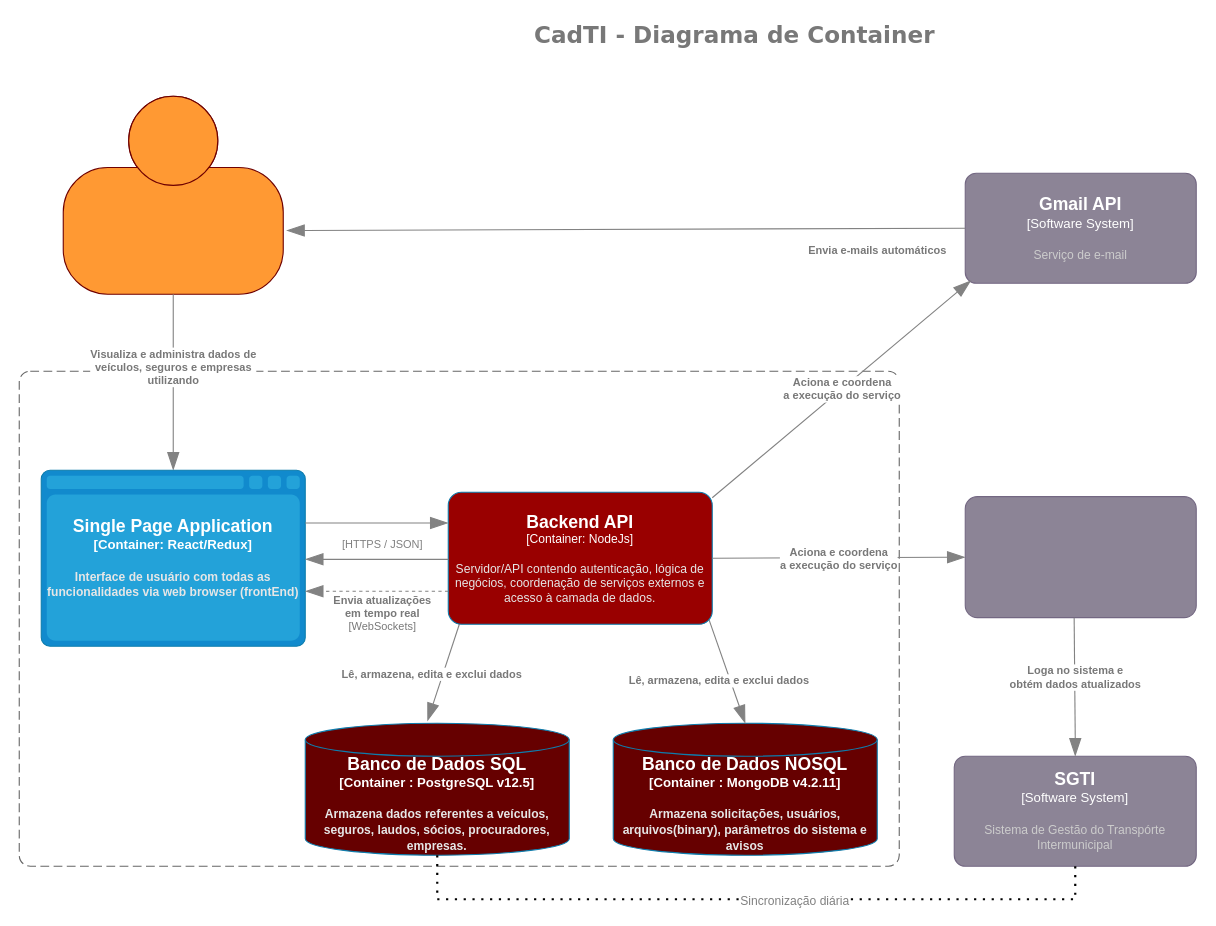
The diagram is 1216 pixels wide and 926 high, and some of its shapes have lost their labels. Here are the shapes that lost their labels. From the top down, the box of each, then its label:
(62, 95, 283, 294): Usuário do sistema [Pessoa] Admin, técnico da Seinfra ou empresa
(964, 496, 1196, 618): DB_Sync [Software System - Python] Serviço de sincronização com o SGTI
(18, 370, 899, 866): Sistema CadTI [Software System]
